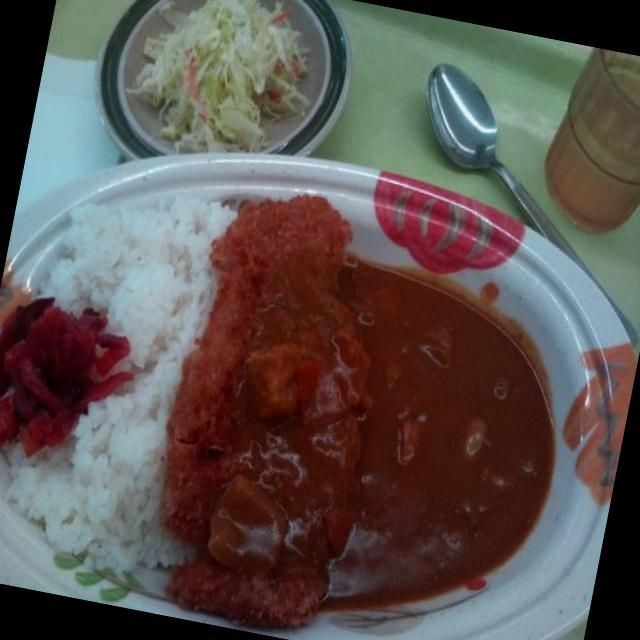Beef Curry: (186, 216, 588, 634)
Green Salad: (115, 0, 324, 171)
